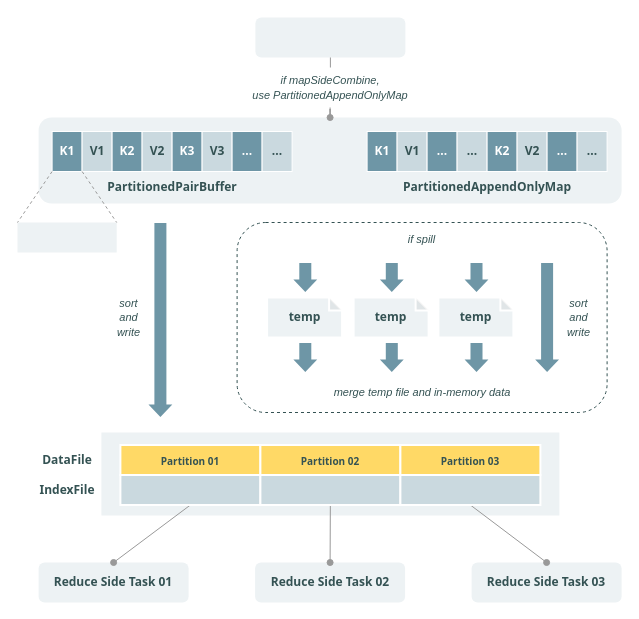
This 639x619 diagram has some shape labels left out. Here are the shapes that lost their labels. From the top down, the box of each, then its label:
(255, 17, 405, 57): Map Side Task
(17, 222, 116, 252): (partition ID, K)
(119, 474, 261, 506): Index 01
(259, 474, 401, 506): Index 02
(399, 474, 541, 506): Index 03
